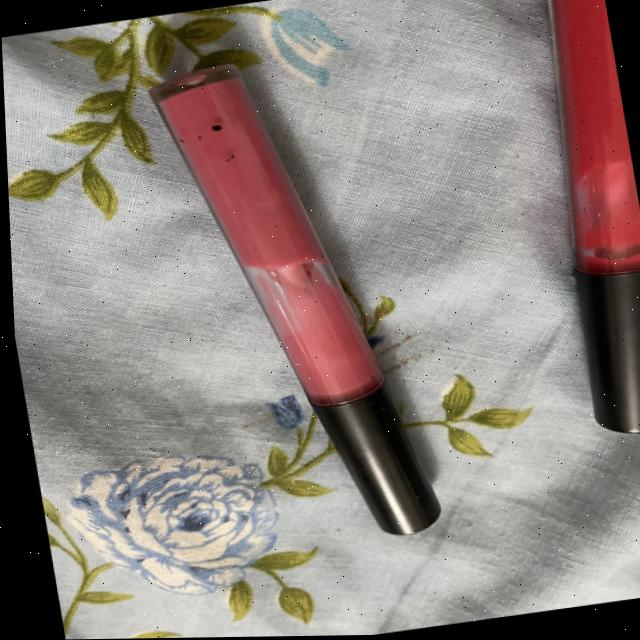lip gloss: (110, 36, 456, 581), (503, 0, 640, 462)
